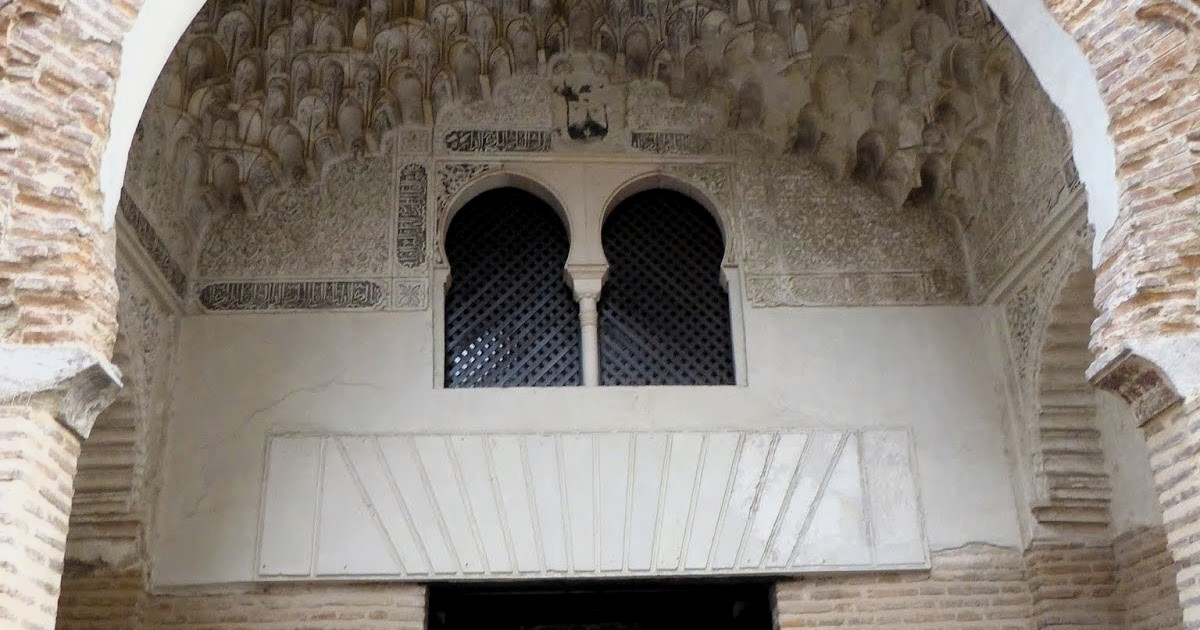arco-herradura: (422, 158, 589, 322), (588, 160, 743, 319)
dintel-adovelado: (334, 429, 854, 573)
